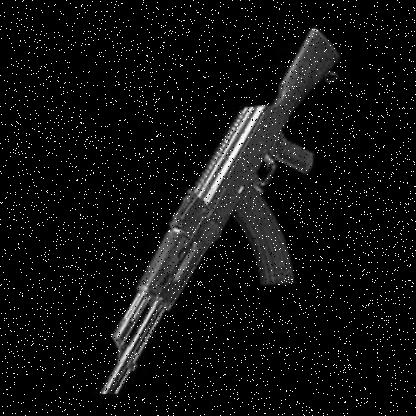rifle: (83, 18, 357, 407)
